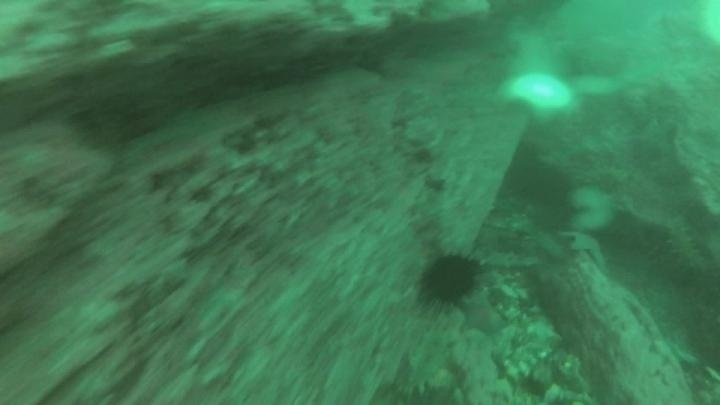echinus: (414, 247, 486, 313), (515, 159, 578, 234)
holothurian: (398, 321, 459, 400), (660, 213, 707, 277), (479, 247, 543, 276)
starfish: (455, 286, 508, 338), (558, 227, 610, 273)
